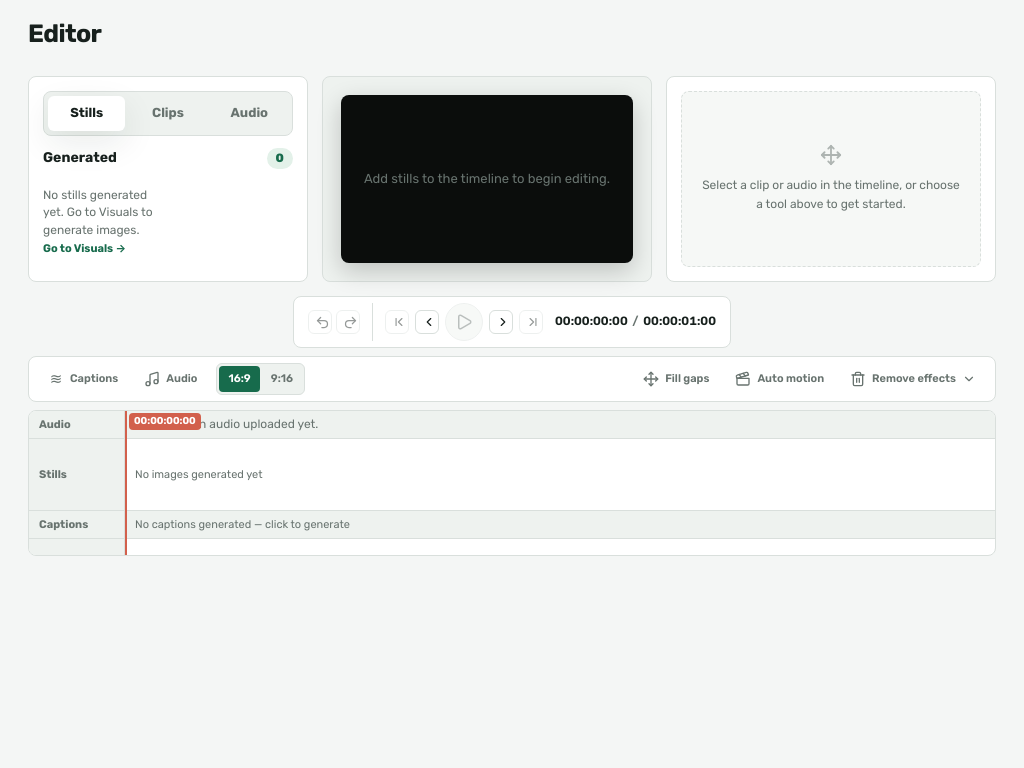
Scenario: TimelineView › Escape closes the captions tool back to the empty inspector state
Click the button "≋ Captions": (83,379) [37,363,129,395]
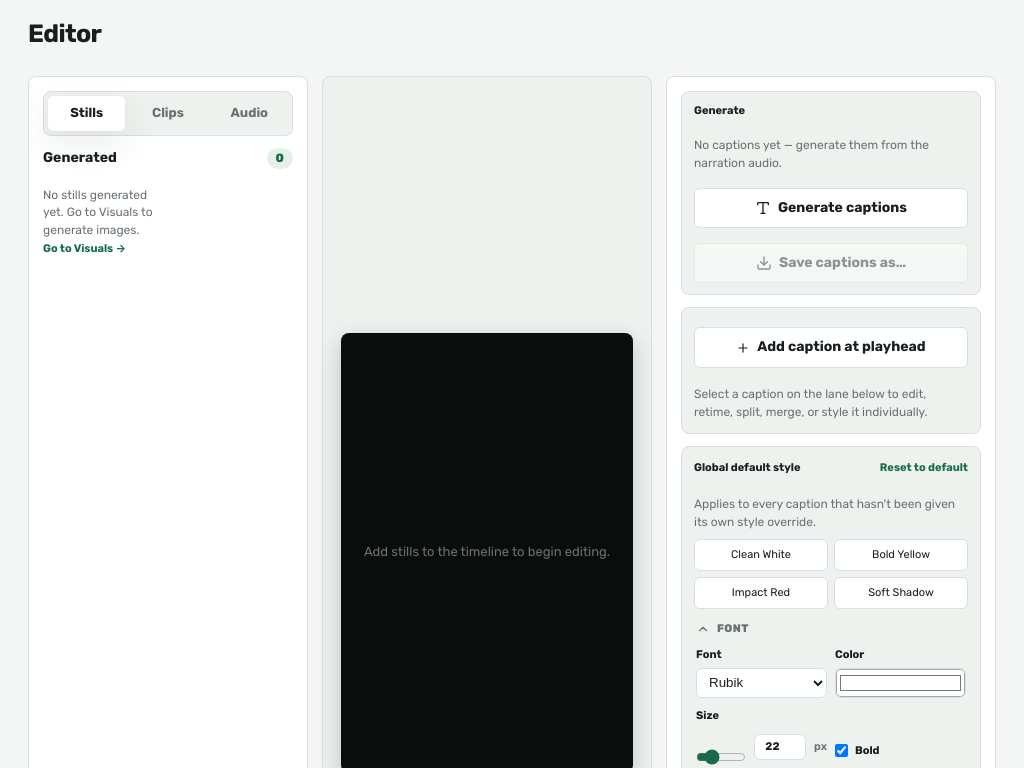
Check: the button "Generate captions" is shown, box [694,188,968,228]
Press Escape
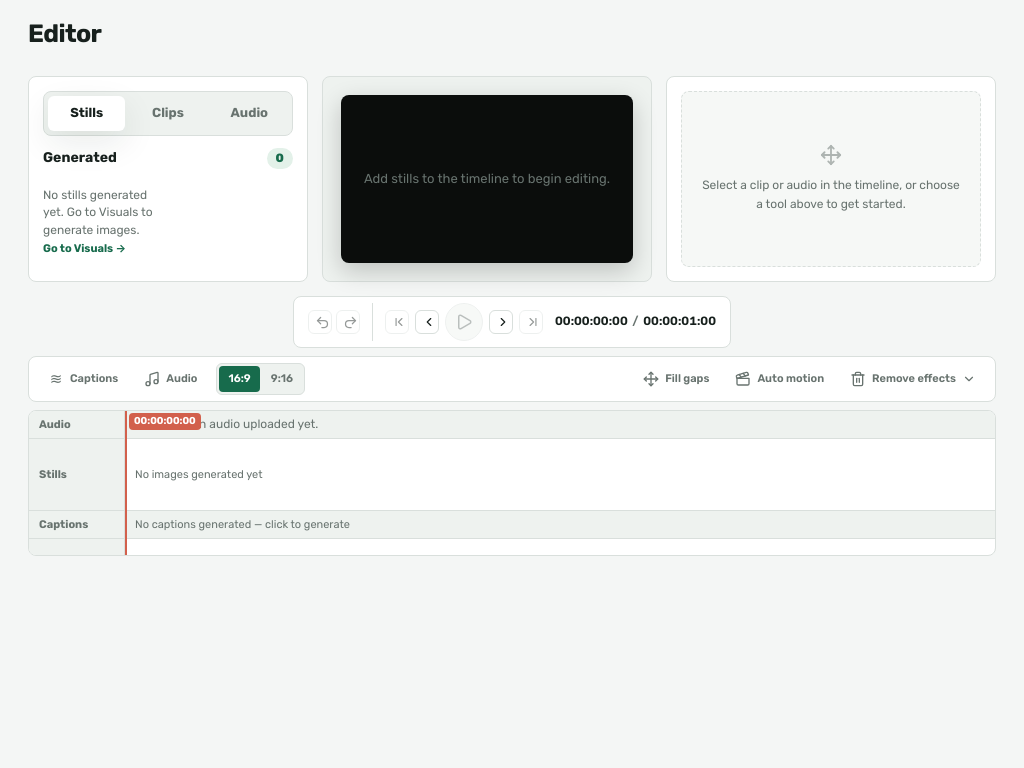
Check: the text "Select a clip or audio in the timeline" is shown, box [702,178,960,211]
